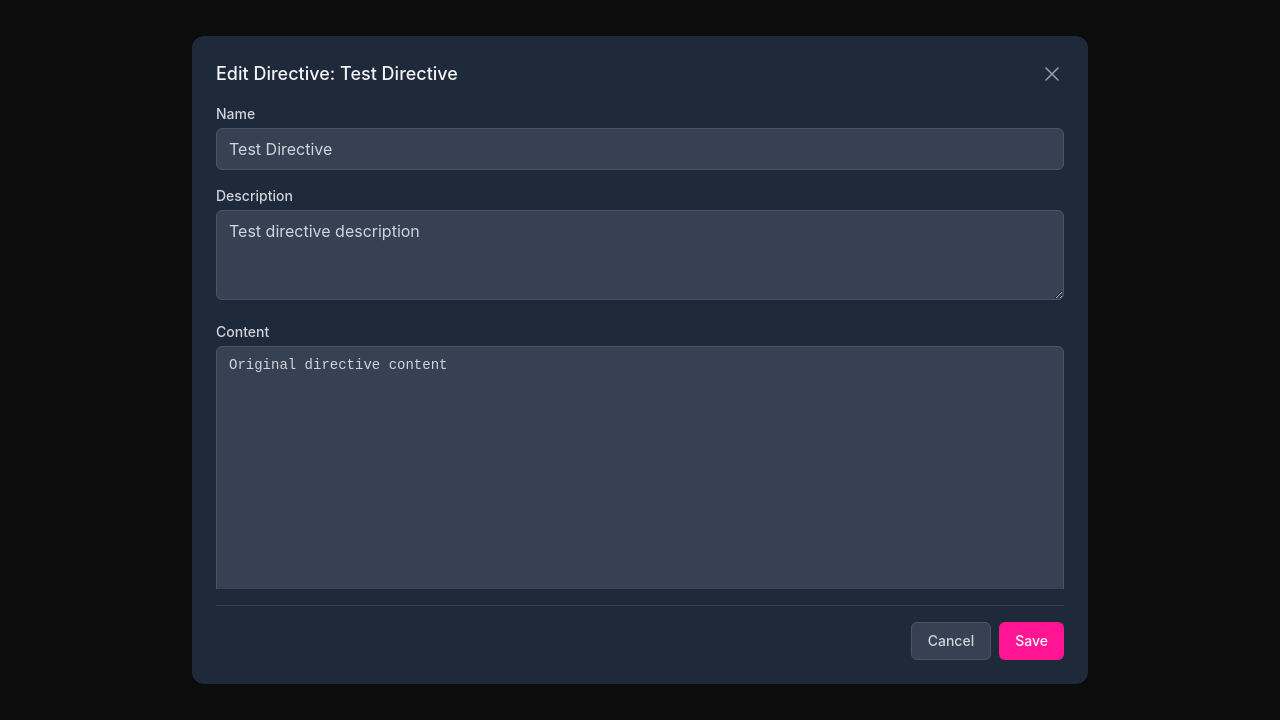
Test: KnowledgeUnitEditModal › Unsaved changes handling › should show ConfirmDialog when X button is clicked with unsaved changes
The width and height of the screenshot is (1280, 720).
Replace the text in the field labelled "Name" with "Test Directive Modified" at coordinates (640, 149), box x1=216 y1=128 x2=1064 y2=170
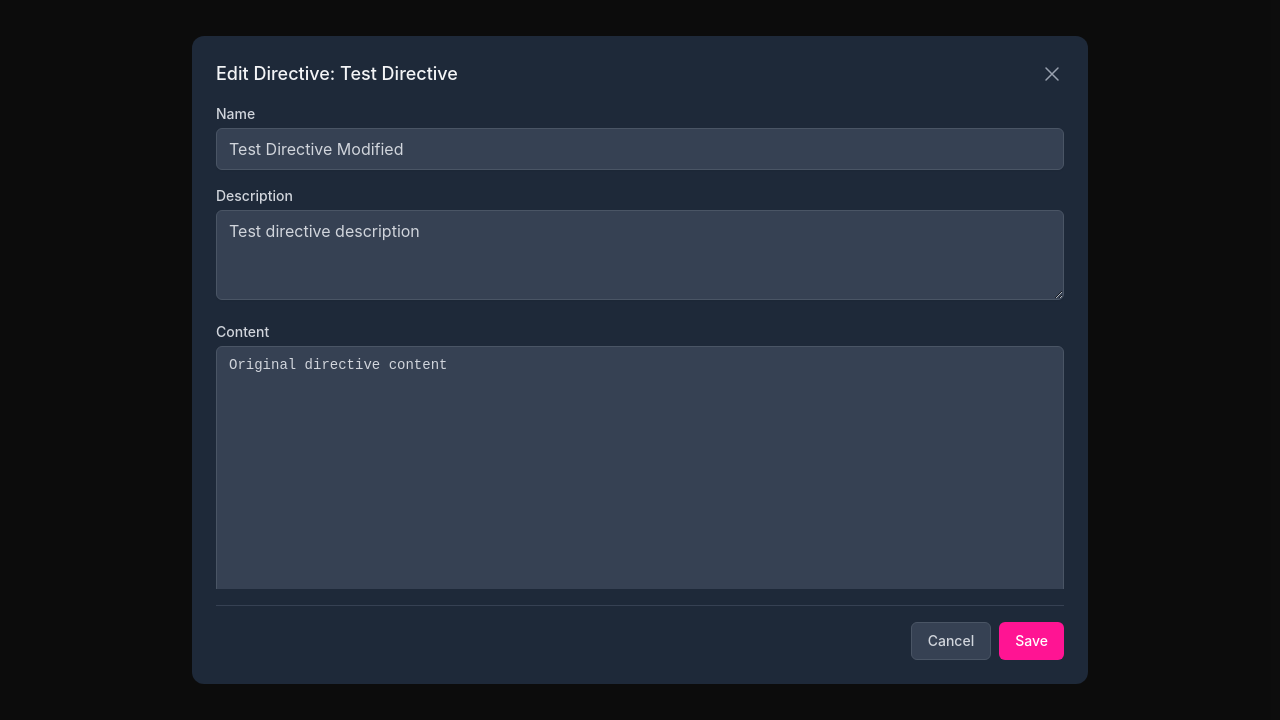
Click the 1st button at coordinates (1052, 74), box x1=1040 y1=62 x2=1064 y2=86
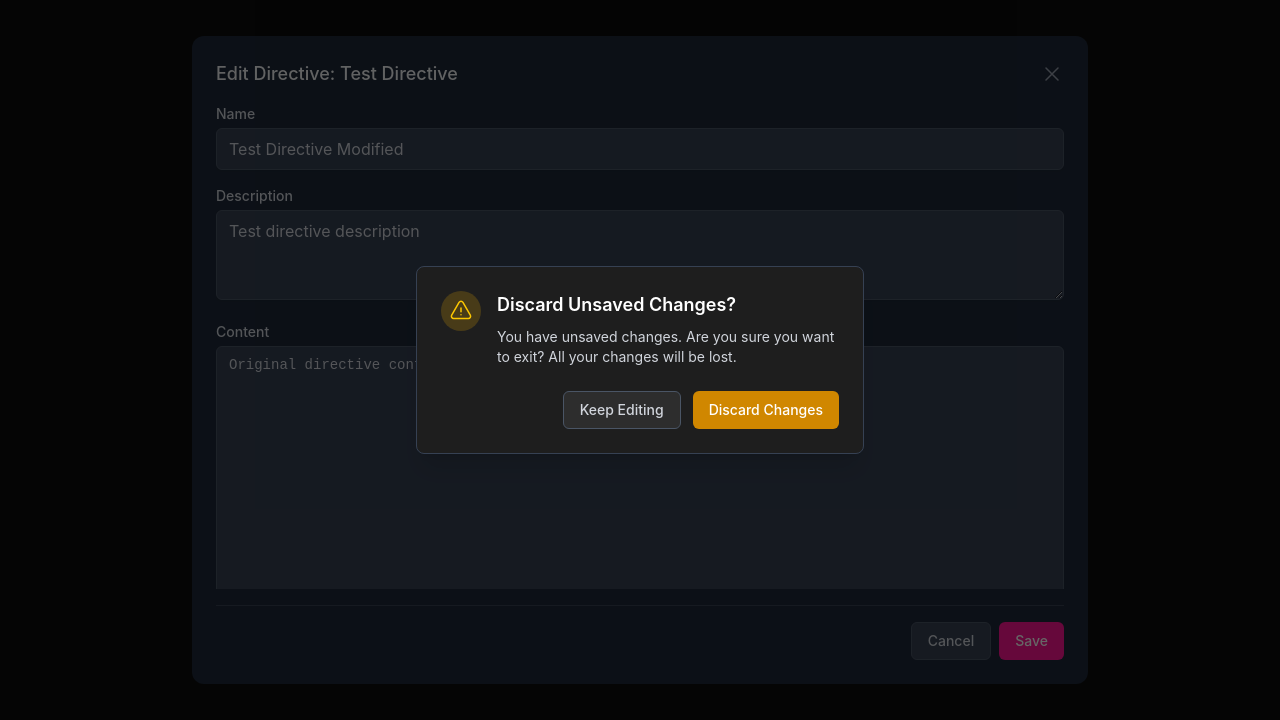
Check: the heading "Discard Unsaved Changes?" is shown, box x1=497 y1=294 x2=736 y2=315
